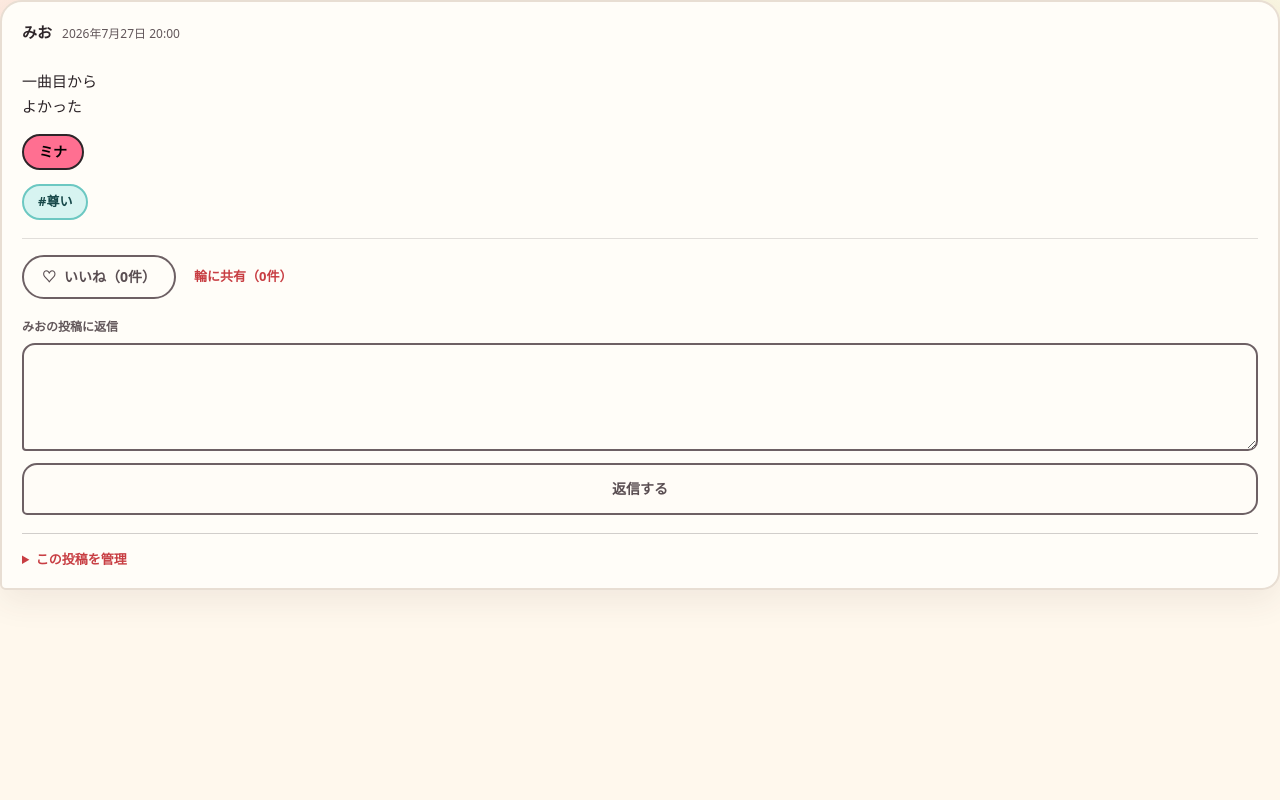
Test: PostCard › gives a manager the removal but never the rewrite
Click the heading "この投稿を管理": (81, 559) [36,550,127,568]
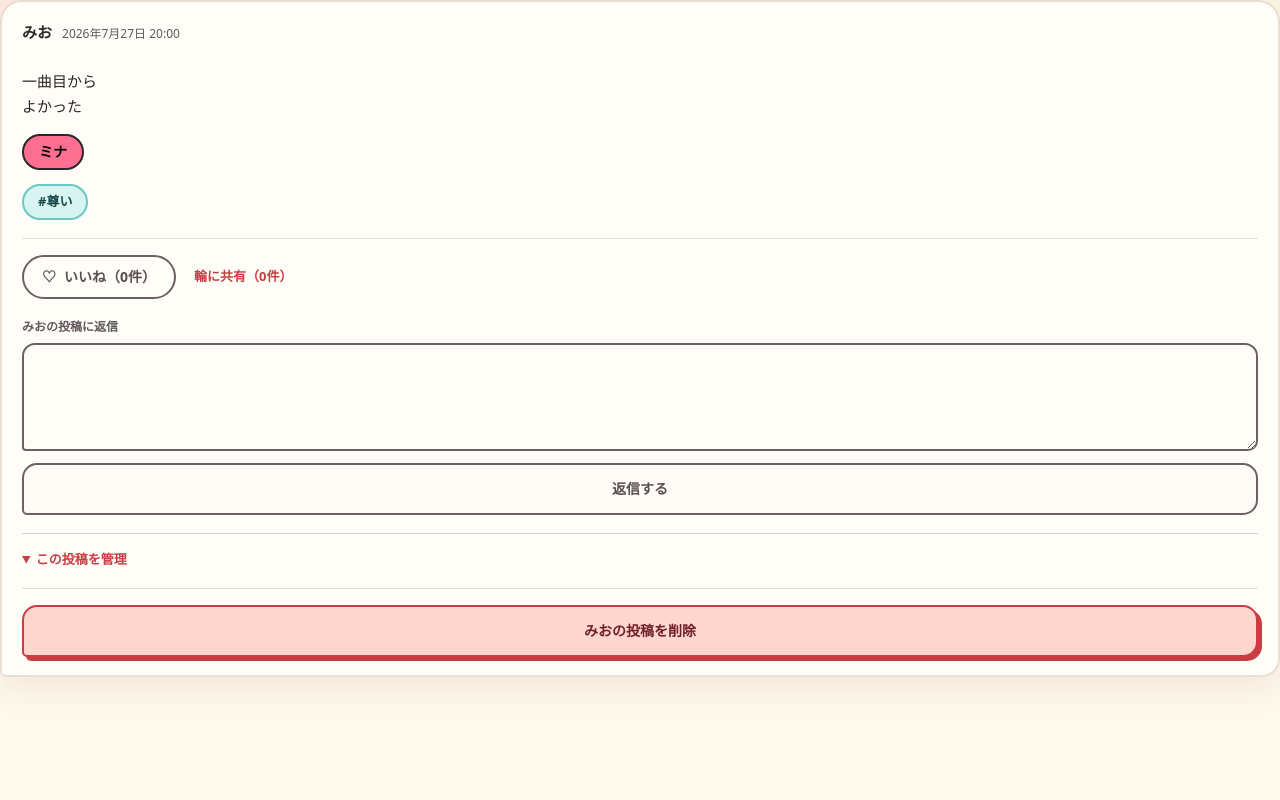
expect the button "みおの投稿を削除" is shown: met, box [22,605,1258,657]
